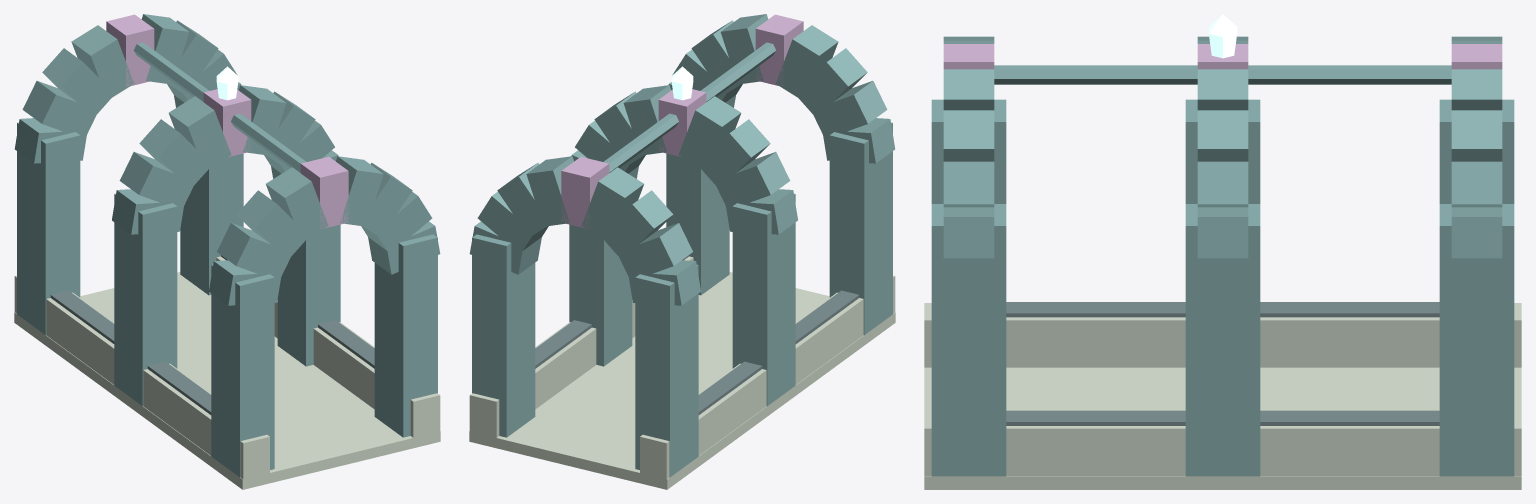
Rendered from 3dassets-runestone-conservatory-open-ribbed-growing-house.glb.
The picture shows the model from 3 angles, left to right: view 1: azimuth 30°, elevation 25°; view 2: azimuth 150°, elevation 25°; view 3: azimuth 270°, elevation 25°; orthographic projection. The views are drawn at different scales.
Visible parts, largest first — view 1: runestone-conservatory-growing-house; view 2: runestone-conservatory-growing-house; view 3: runestone-conservatory-growing-house.
Part boxes in pixels (x1,y1,x2,y2): runestone-conservatory-growing-house: (14, 14, 440, 489); runestone-conservatory-growing-house: (469, 14, 895, 489); runestone-conservatory-growing-house: (924, 14, 1521, 489).
Size of the model in its own units: 2.14 by 3.05 by 4.
